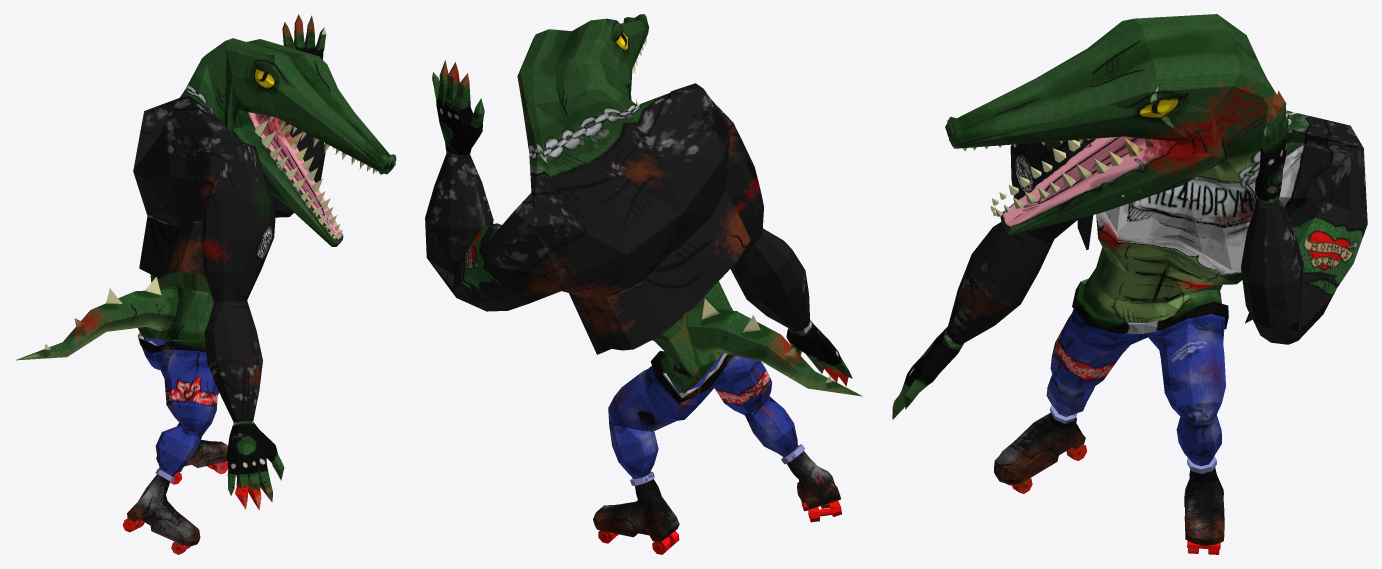
File: cocodrilaBonesSelect_000003.obj
3 views of the same model, side by side, from view 1: azimuth 30°, elevation 25°; view 2: azimuth 150°, elevation 25°; view 3: azimuth 270°, elevation 25° (orthographic). The views are drawn at different scales.
Visible parts, largest first — view 1: Crocodile.002_Cylinder.002; view 2: Crocodile.002_Cylinder.002; view 3: Crocodile.002_Cylinder.002.
Boxes of the visible parts, x1,y1,x2,y2 form: Crocodile.002_Cylinder.002: (15, 14, 396, 554); Crocodile.002_Cylinder.002: (425, 14, 863, 554); Crocodile.002_Cylinder.002: (892, 14, 1367, 554).
Size of the model in its own units: 5.14 by 6.12 by 4.73.
